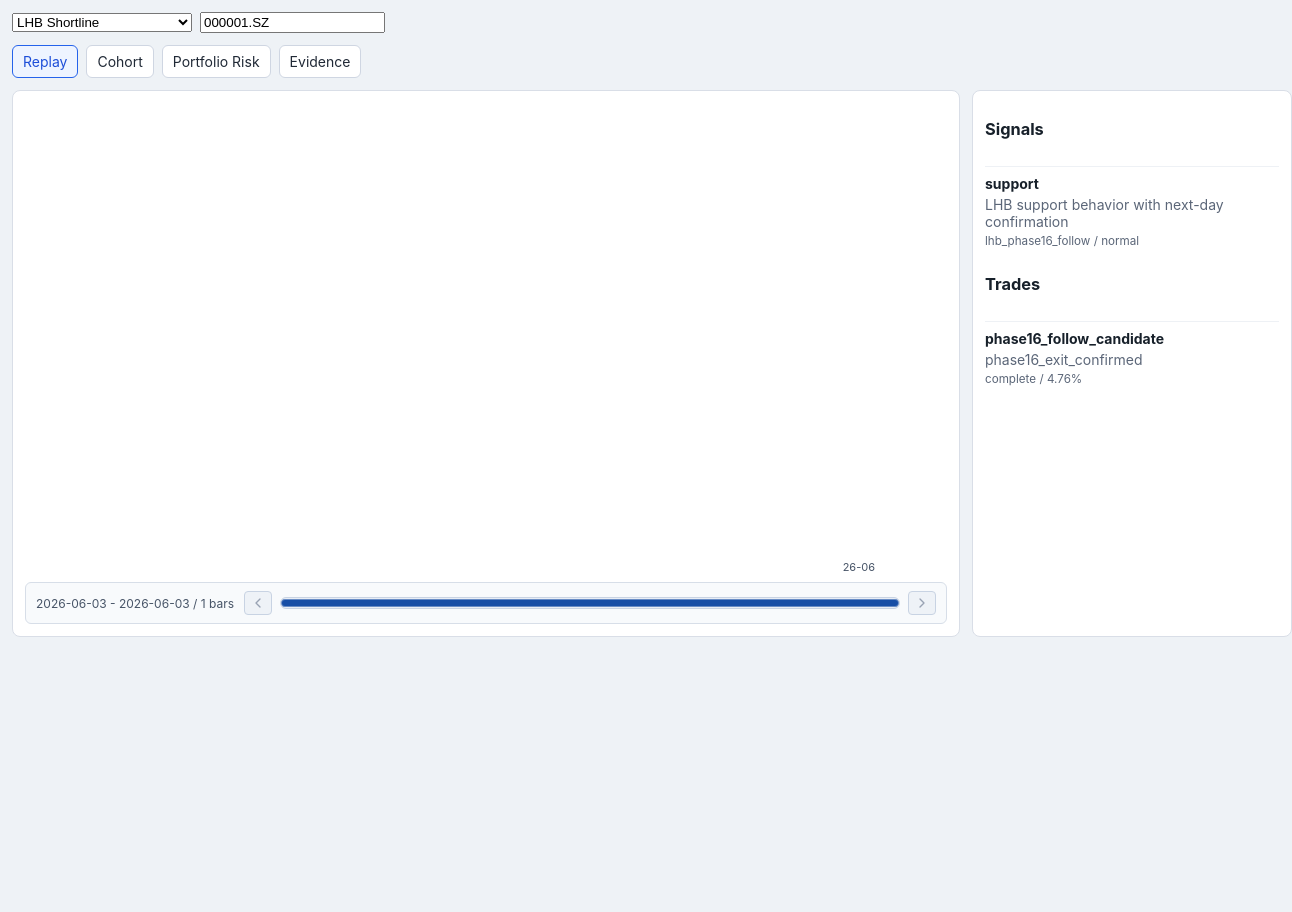
Test: StrategyValidationWorkspace › switches to cohort, portfolio risk, and evidence tabs
This screenshot has width=1292, height=912.
Click the button "Cohort".
click(120, 62)  # box [86,45,154,78]
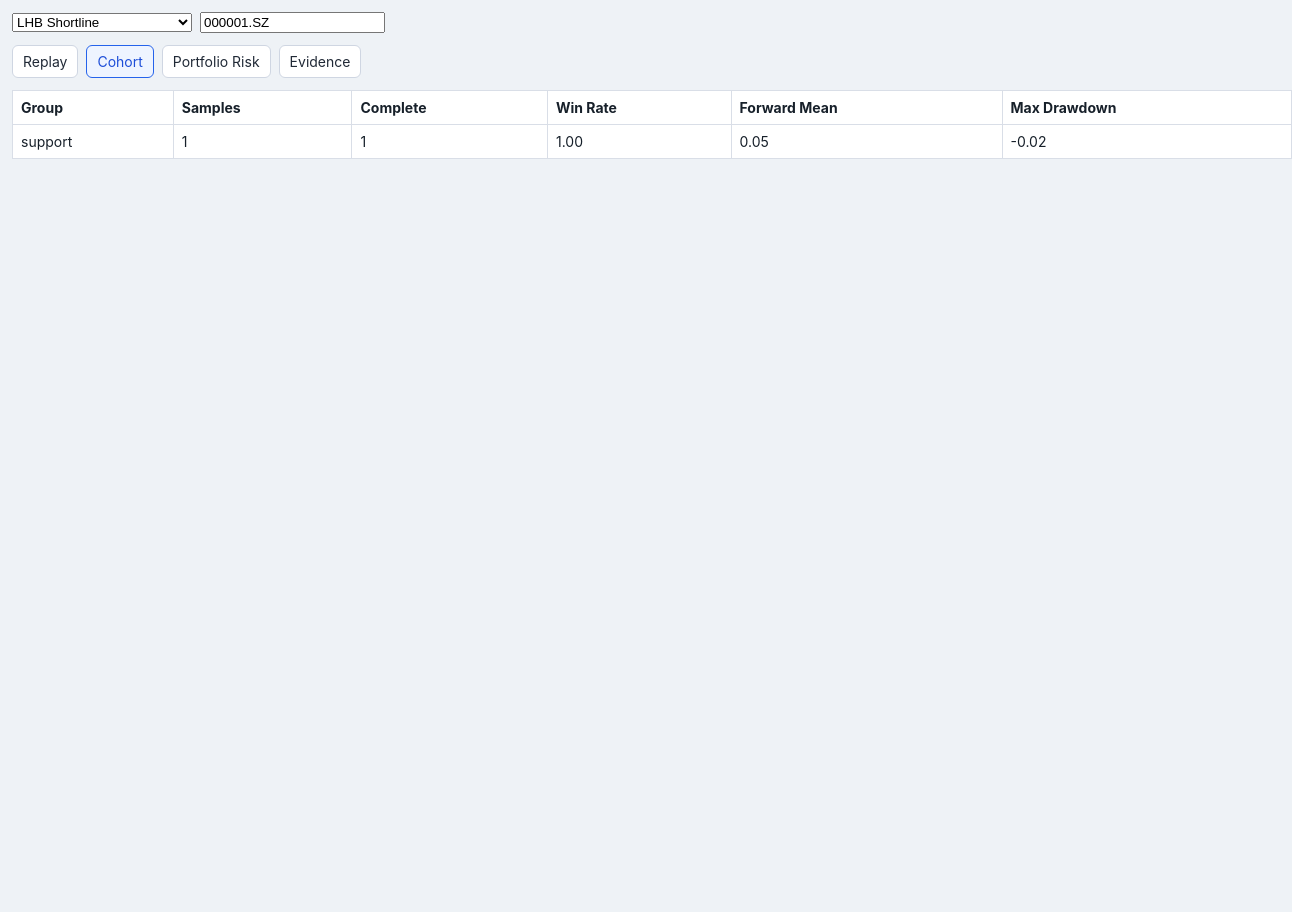
Expected: the text "support" is shown, [12,124,173,158]
Expected: the text "1.00" is shown, [548,124,731,158]
Click the button "Portfolio Risk".
click(216, 62)  # box [162,45,271,78]
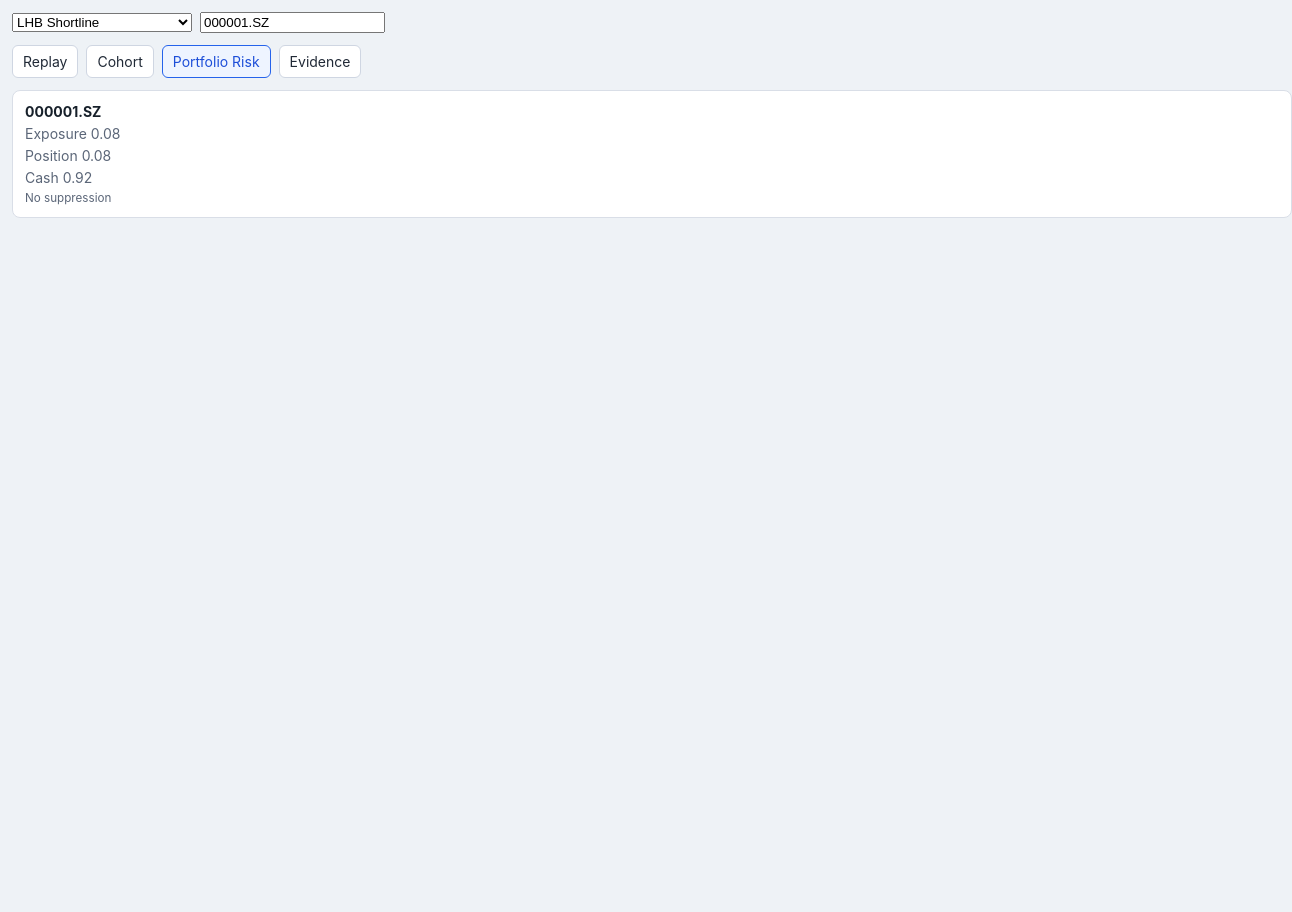
Expected: the text "Exposure 0.08" is shown, [25,125,120,142]
Click the button "Evidence".
click(320, 62)  # box [279,45,361,78]
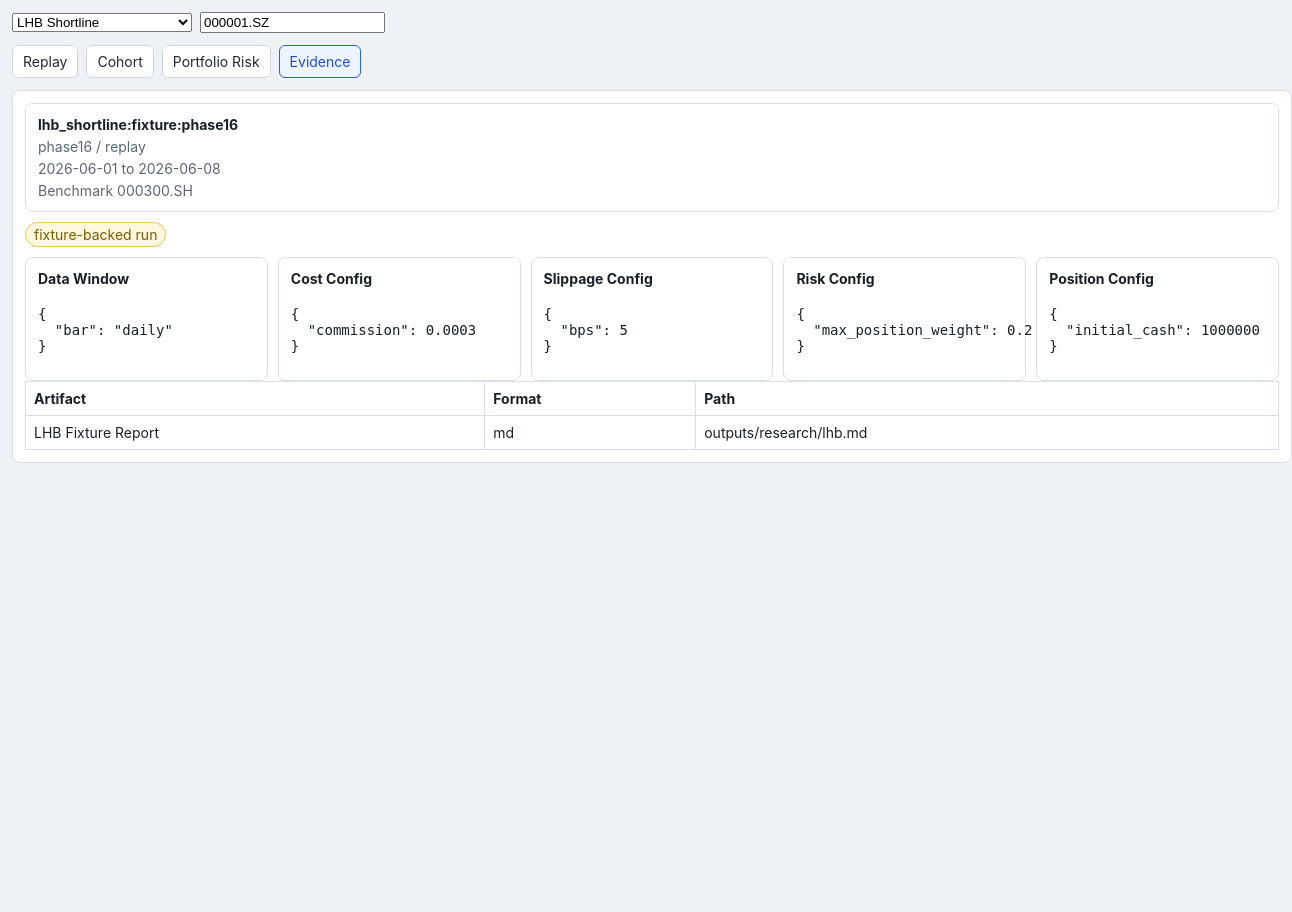
Expected: the text "fixture-backed run" is shown, [25,222,166,247]
Expected: the text "LHB Fixture Report" is shown, [26,416,485,450]
Expected: the text "Data Window" is shown, [38,270,129,287]
